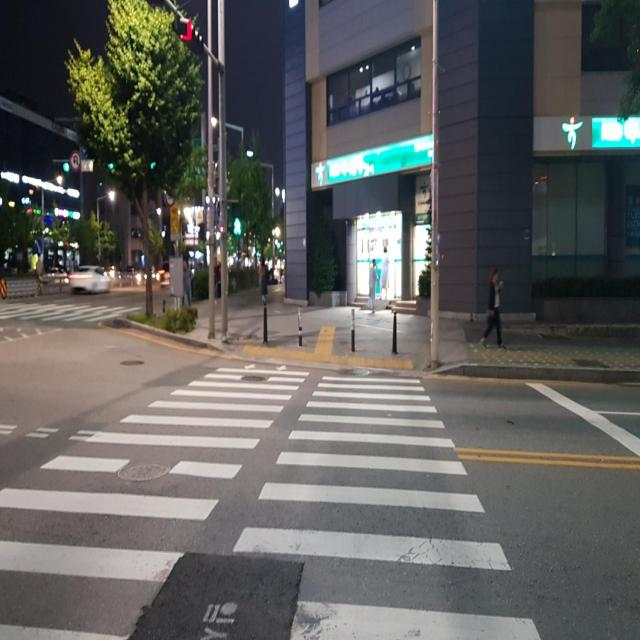초록불: (231, 200, 244, 240)
횡단보도: (0, 363, 541, 640), (0, 296, 144, 329)
